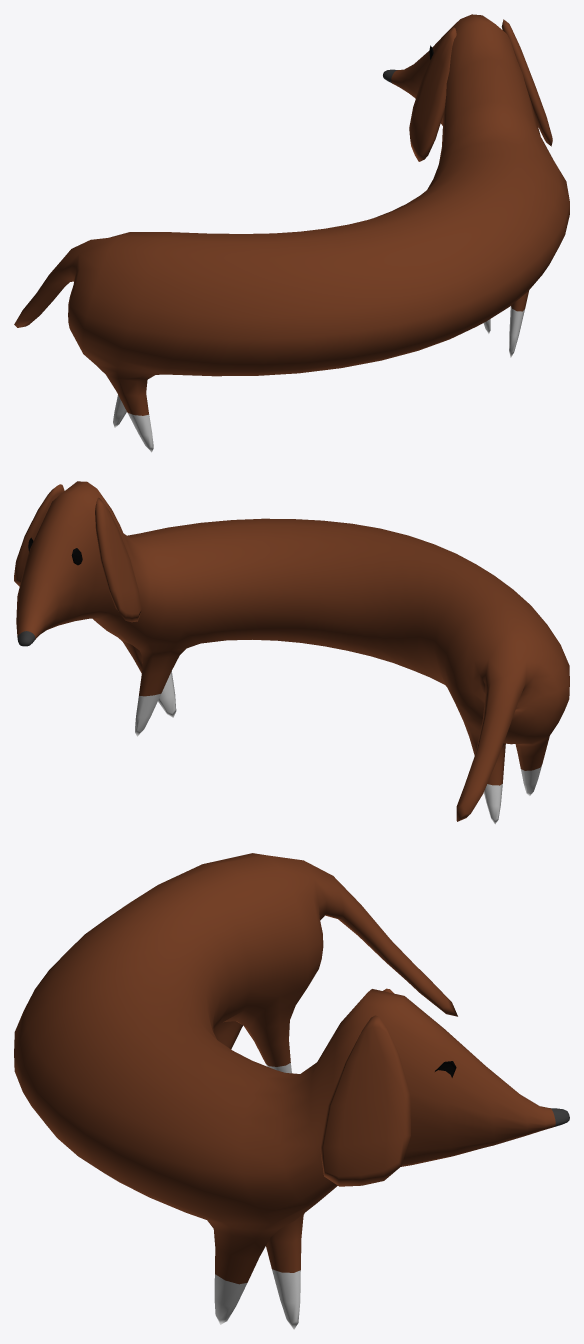
The model's file is ween_medium_curved.fbx.
3 views of the same model, one above another, from view 1: azimuth 30°, elevation 25°; view 2: azimuth 150°, elevation 25°; view 3: azimuth 270°, elevation 25° (orthographic). The views are drawn at different scales.
Parts seen in each view (by area): view 1: ween_medium_curved; view 2: ween_medium_curved; view 3: ween_medium_curved.
Boxes of the visible parts, left/top/right/bottom form: ween_medium_curved: left=14, top=14, right=569, bottom=452; ween_medium_curved: left=14, top=481, right=569, bottom=824; ween_medium_curved: left=14, top=853, right=569, bottom=1329.
Bounding box in the file's own units: 247 × 330 × 173.
